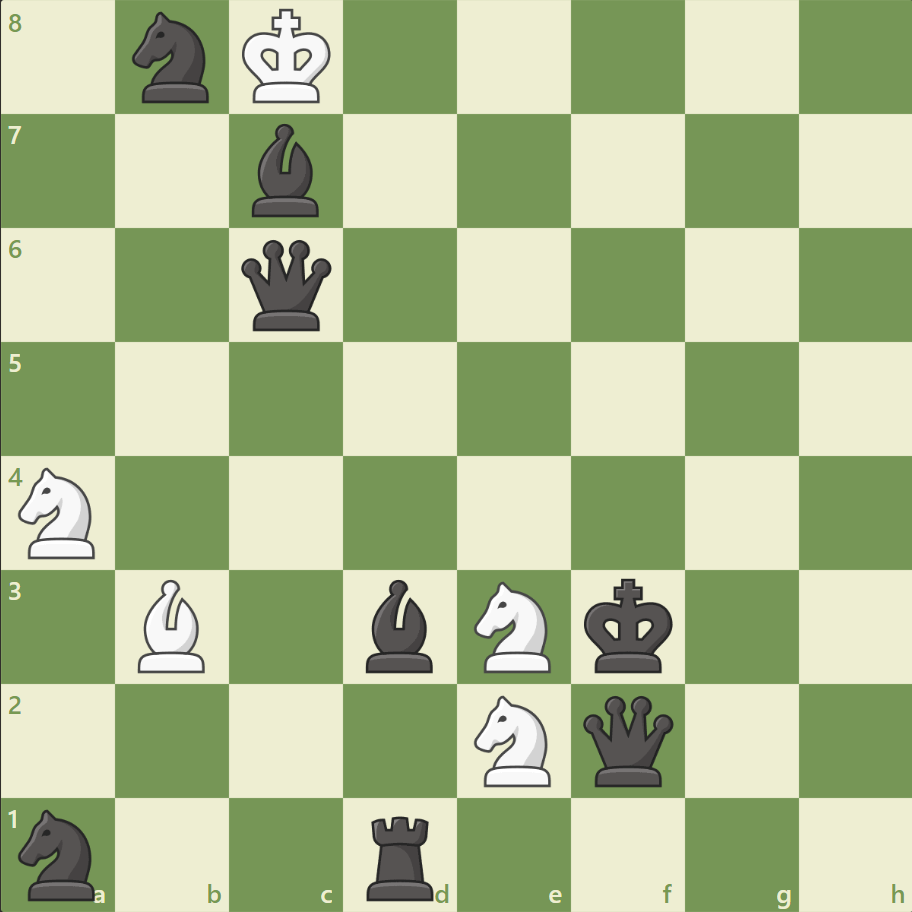B: (131, 574, 215, 676)
K: (238, 4, 338, 112)
N: (11, 461, 108, 564), (465, 688, 562, 791), (465, 575, 562, 677)
b: (244, 120, 328, 222), (358, 574, 442, 676)
k: (579, 571, 679, 679)
n: (124, 7, 222, 110), (11, 802, 108, 904)
q: (237, 236, 336, 335), (578, 690, 677, 789)
r: (360, 806, 442, 904)
